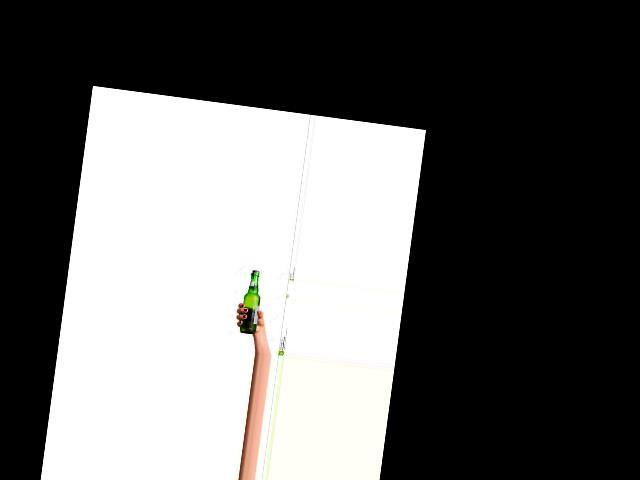beer: (238, 269, 264, 334)
